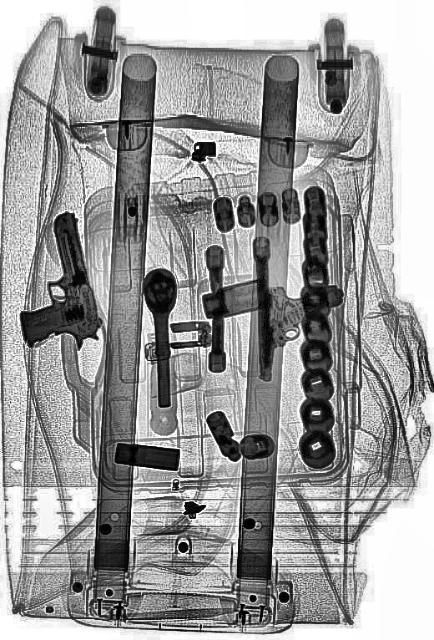Gun: (0, 208, 104, 370), (258, 281, 345, 379)
